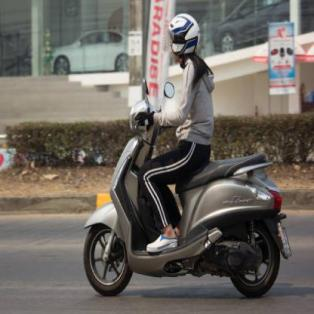Motocicleta: (81, 100, 290, 299)
